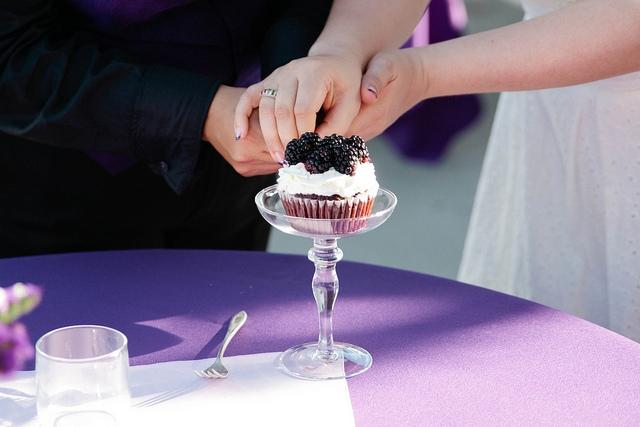blackberry: (332, 144, 358, 176), (296, 132, 322, 164), (342, 136, 371, 164), (305, 148, 332, 175), (318, 134, 344, 160)
